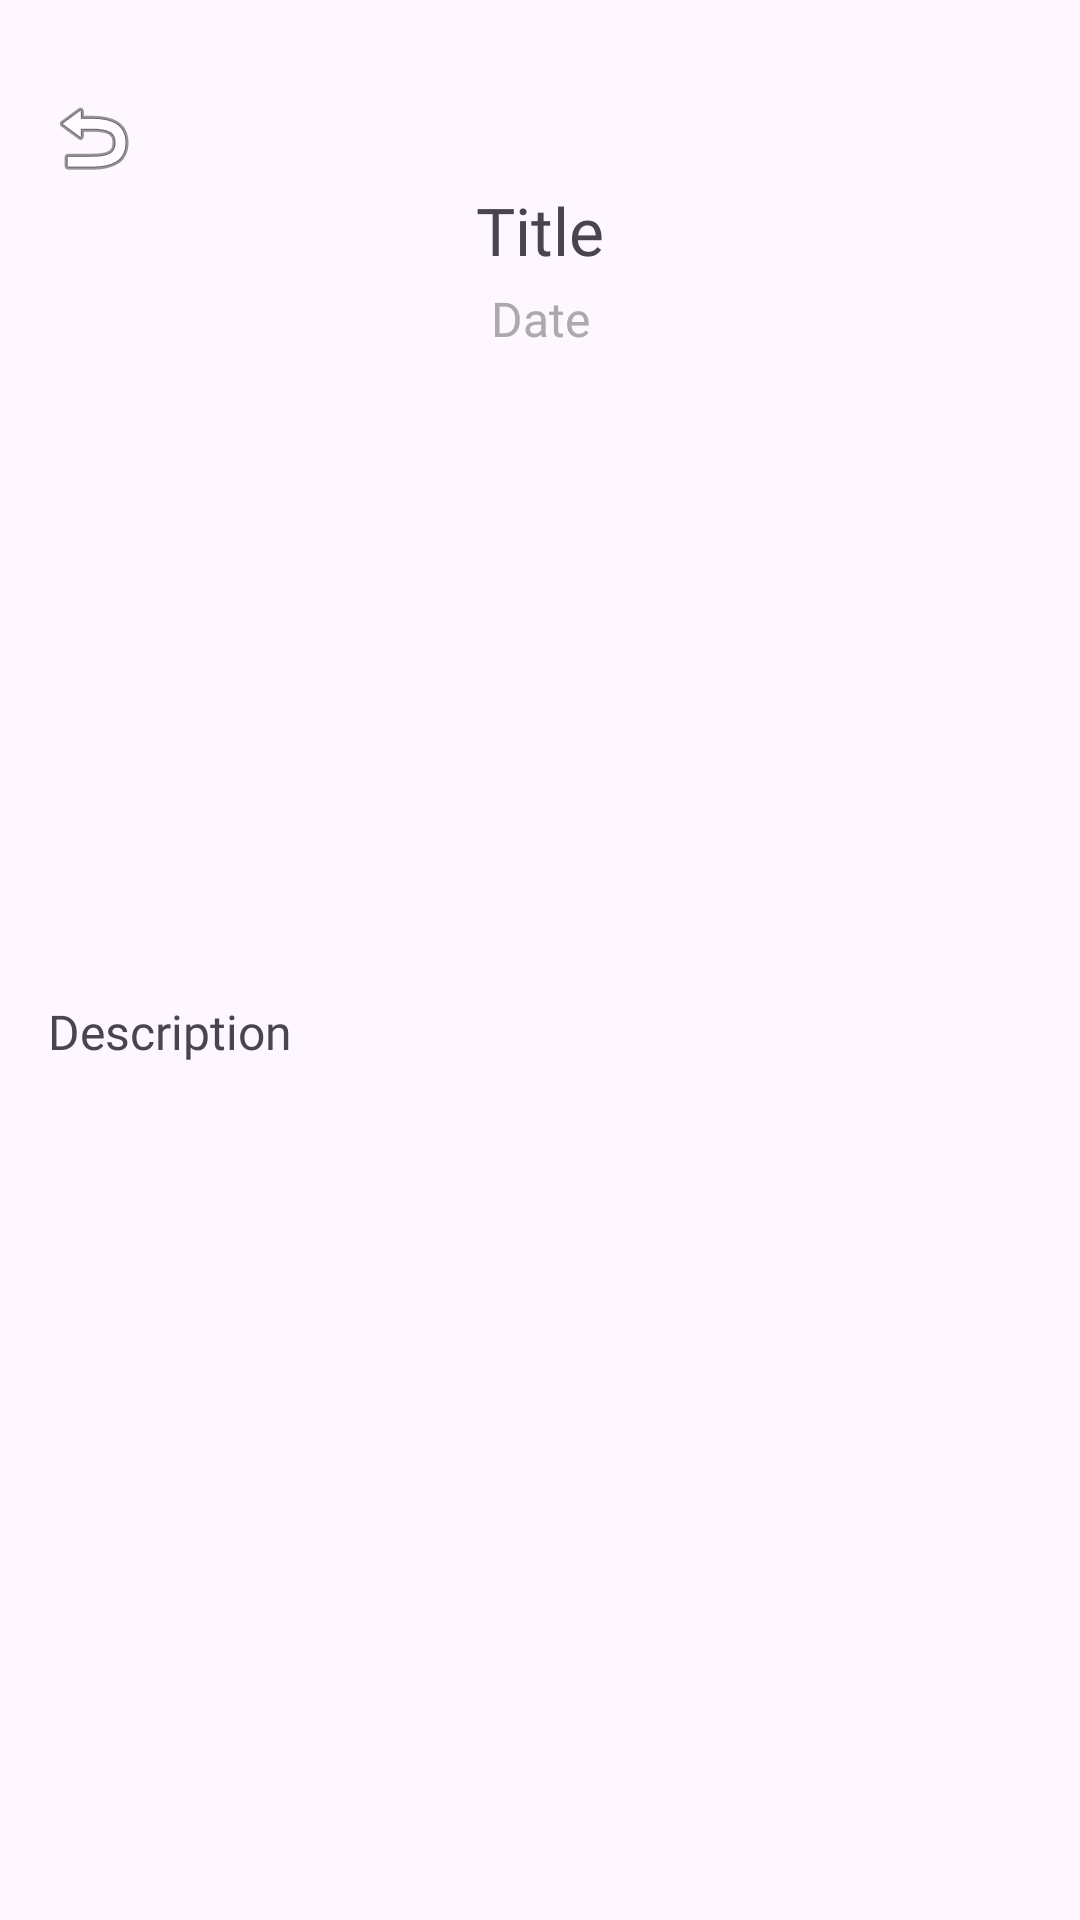

Named icons in this screenshot (1080×1920) and their centers, [x,y]:
Back: [94,138]
